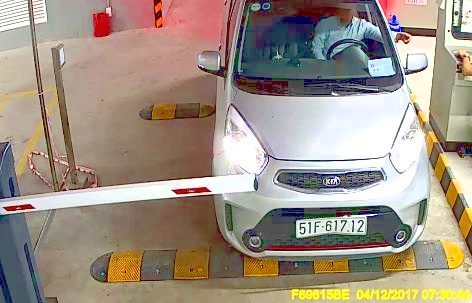plate: (296, 212, 367, 237)
